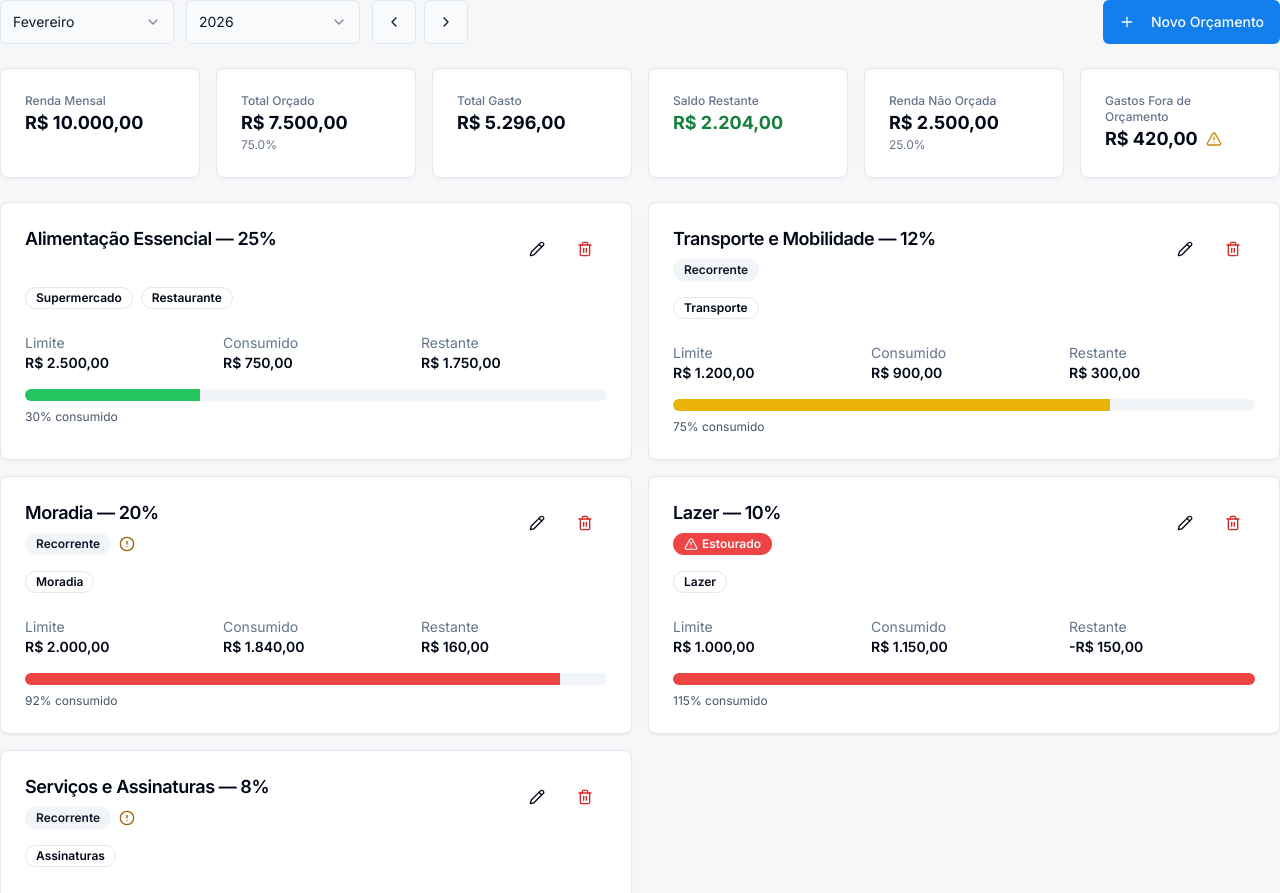
Test: BudgetDashboard › should hide action buttons for past months (read-only mode)
The width and height of the screenshot is (1280, 893).
Expected: the text "Alimentação Essencial — 25%" is shown, [25,227,276,251]
Click the button named "mês anterior".
click(394, 22)  # box [372,0,416,44]
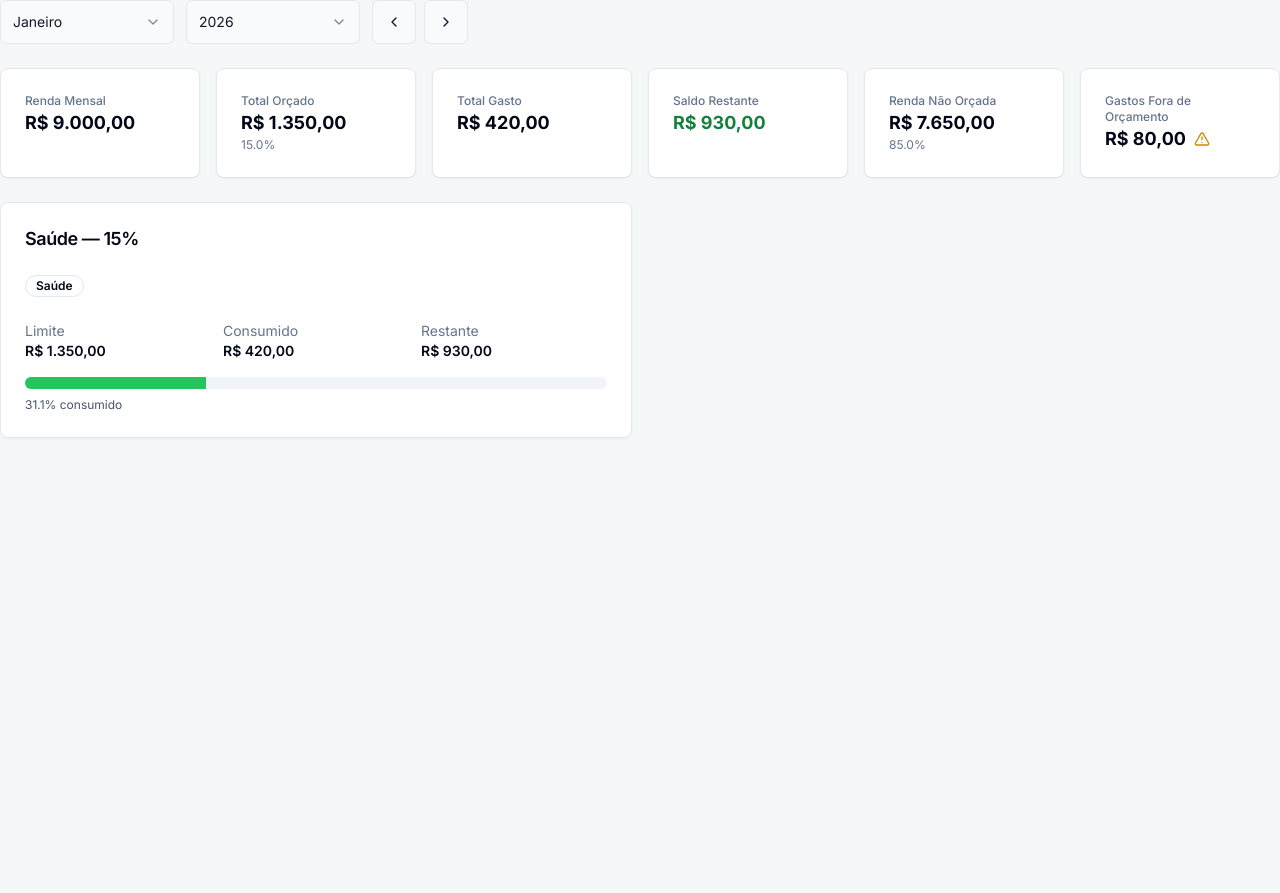
Expected: the text "Saúde — 15%" is shown, [25,227,139,251]
Expected: the button "Novo Orçamento" is gone
